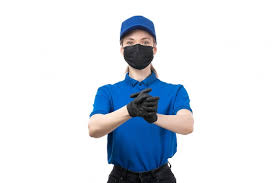MASK: (124, 45, 154, 69)
